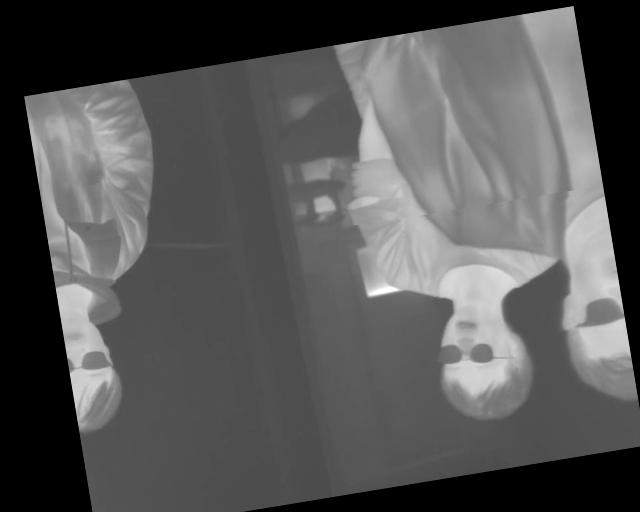face: (427, 300, 540, 431), (61, 313, 126, 434)
